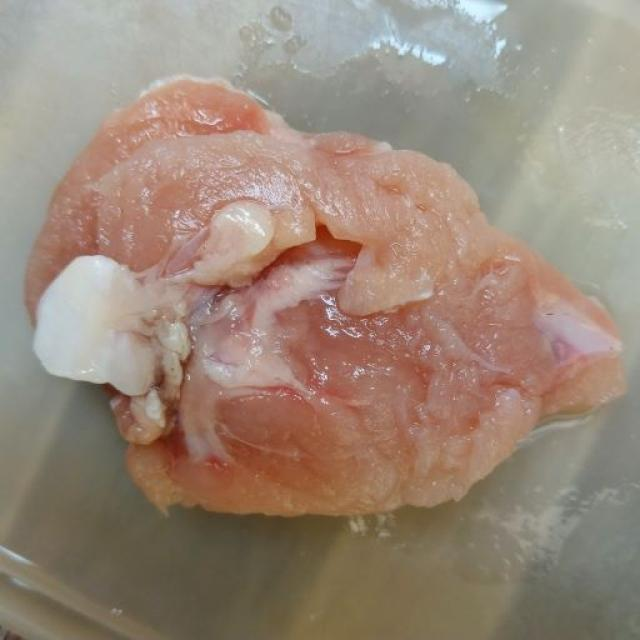chicken: (23, 73, 628, 520)
